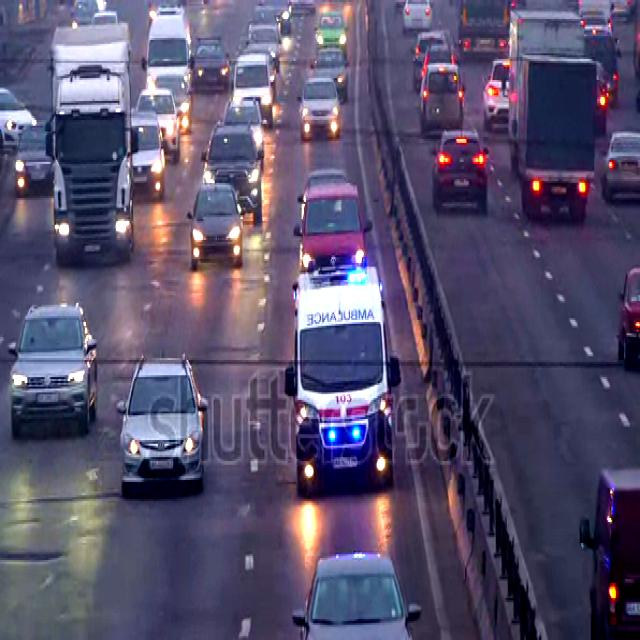ambulance: (282, 265, 401, 501)
